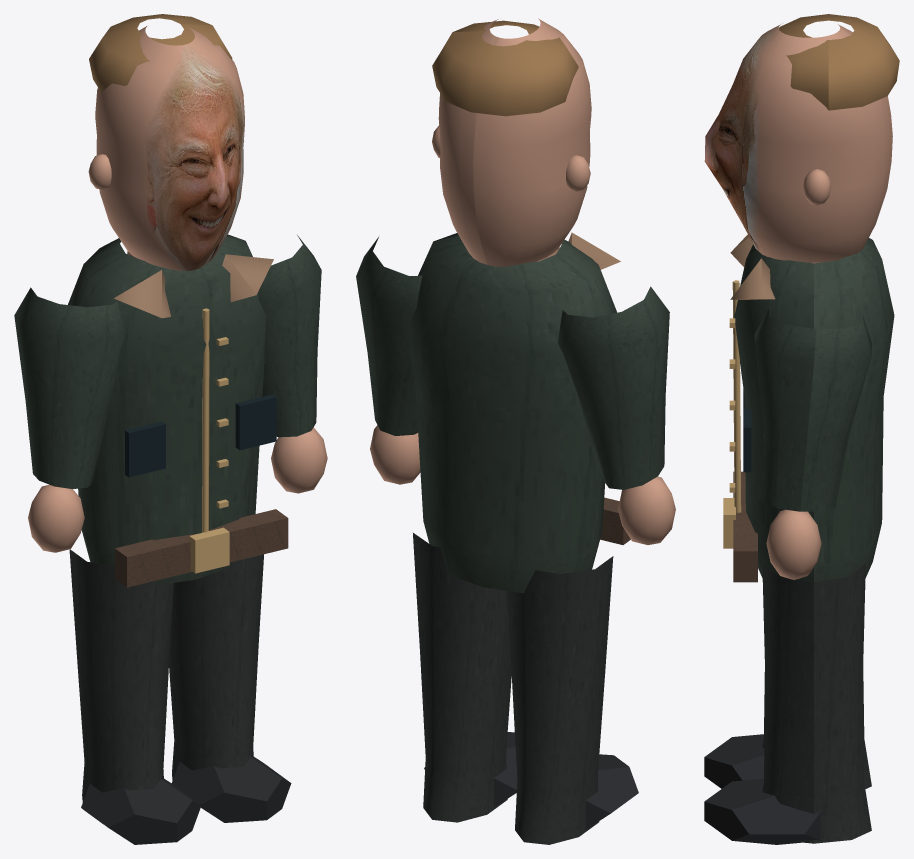
The model's file is psx-persona-001.glb.
3 views of the same model, side by side, from view 1: azimuth 30°, elevation 25°; view 2: azimuth 150°, elevation 25°; view 3: azimuth 270°, elevation 25° (orthographic). The views are drawn at different scales.
Visible parts, largest first — view 1: COAT_MAIN, TROUSER (×2), UV_FACIAL_MESH, SLEEVE (×2), LEATHER_SHOE (×2), HAND (×2), BELT, HAIR_SCALP, POCKET (×2), COLLAR (×2), PSX_TEMPLATE_01, BUCKLE (+1 smaller); view 2: COAT_MAIN, TROUSER (×2), SLEEVE (×2), UV_FACIAL_MESH, HAIR_SCALP, HAND (×2), LEATHER_SHOE (×2), BELT, EAR, COLLAR; view 3: UV_FACIAL_MESH, TROUSER (×2), COAT_MAIN, SLEEVE, LEATHER_SHOE (×2), HAIR_SCALP, HAND, BELT, PSX_TEMPLATE_01, COLLAR, EAR, BUCKLE (+1 smaller).
Part boxes in pixels (x1,y1,x2,y2): COAT_MAIN: [68, 234, 266, 585]; TROUSER (×2): [69, 549, 263, 822]; UV_FACIAL_MESH: [95, 26, 244, 271]; SLEEVE (×2): [14, 235, 321, 488]; LEATHER_SHOE (×2): [81, 757, 291, 844]; HAND (×2): [28, 427, 327, 552]; BELT: [115, 509, 288, 587]; HAIR_SCALP: [89, 14, 232, 92]; POCKET (×2): [125, 394, 276, 477]; COLLAR (×2): [114, 254, 273, 318]; PSX_TEMPLATE_01: [202, 308, 209, 532]; BUCKLE: [189, 527, 229, 573]; COAT_MAIN: [410, 233, 616, 593]; TROUSER (×2): [413, 533, 613, 844]; SLEEVE (×2): [356, 237, 669, 489]; UV_FACIAL_MESH: [438, 18, 591, 266]; HAIR_SCALP: [432, 20, 578, 116]; HAND (×2): [370, 425, 675, 544]; LEATHER_SHOE (×2): [424, 732, 638, 829]; BELT: [600, 497, 630, 544]; EAR: [566, 155, 590, 191]; COLLAR: [568, 232, 620, 269]; UV_FACIAL_MESH: [704, 24, 892, 262]; TROUSER (×2): [762, 563, 871, 843]; COAT_MAIN: [734, 238, 894, 582]; SLEEVE: [754, 308, 872, 511]; LEATHER_SHOE (×2): [704, 734, 820, 844]; HAIR_SCALP: [779, 14, 899, 110]; HAND: [766, 509, 821, 579]; BELT: [733, 471, 757, 582]; PSX_TEMPLATE_01: [732, 280, 741, 512]; COLLAR: [730, 258, 775, 299]; EAR: [803, 169, 831, 205]; BUCKLE: [723, 498, 735, 548].
Bounding box in the file's own units: 1.11 × 2.8 × 0.6326.
11 materials, 4 textured.
